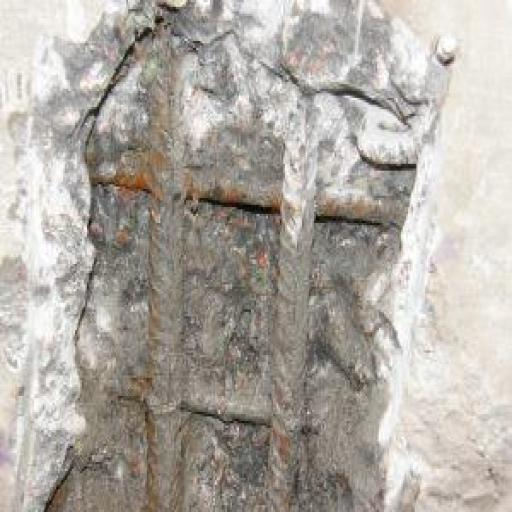spalling: (46, 8, 453, 510)
